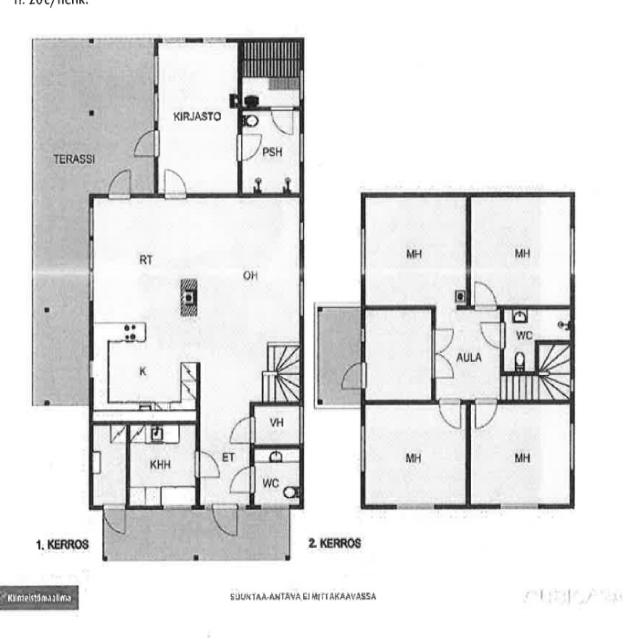door: (27, 36, 158, 196), (472, 286, 506, 352), (431, 325, 458, 385), (210, 501, 240, 540), (266, 103, 298, 139), (476, 319, 508, 352), (336, 360, 369, 392), (192, 450, 224, 482), (235, 129, 264, 164), (470, 278, 500, 311), (472, 396, 500, 431), (161, 164, 188, 200), (102, 502, 128, 538), (132, 128, 161, 160), (437, 398, 464, 432), (228, 416, 255, 446), (229, 464, 256, 494)
window: (83, 204, 98, 307), (565, 224, 580, 284), (294, 258, 308, 322), (355, 224, 370, 283), (565, 419, 579, 478), (148, 52, 161, 113), (356, 423, 368, 475), (494, 501, 542, 514), (393, 500, 439, 513), (156, 34, 189, 48), (296, 131, 309, 166), (296, 67, 308, 103), (199, 34, 230, 47), (160, 502, 193, 514), (258, 500, 290, 512), (296, 218, 308, 244), (86, 358, 98, 382), (358, 325, 368, 347), (569, 375, 577, 398)
zone: (89, 193, 302, 404), (156, 40, 240, 197), (362, 194, 469, 310), (467, 194, 574, 307), (467, 401, 574, 507), (360, 401, 468, 506), (364, 306, 434, 404), (431, 308, 503, 401), (128, 421, 199, 509), (240, 106, 301, 198), (501, 305, 573, 371), (89, 422, 128, 508), (252, 444, 302, 508), (500, 309, 537, 374), (251, 405, 303, 447), (257, 104, 299, 154), (240, 79, 304, 109), (130, 127, 162, 160), (108, 166, 134, 201)
